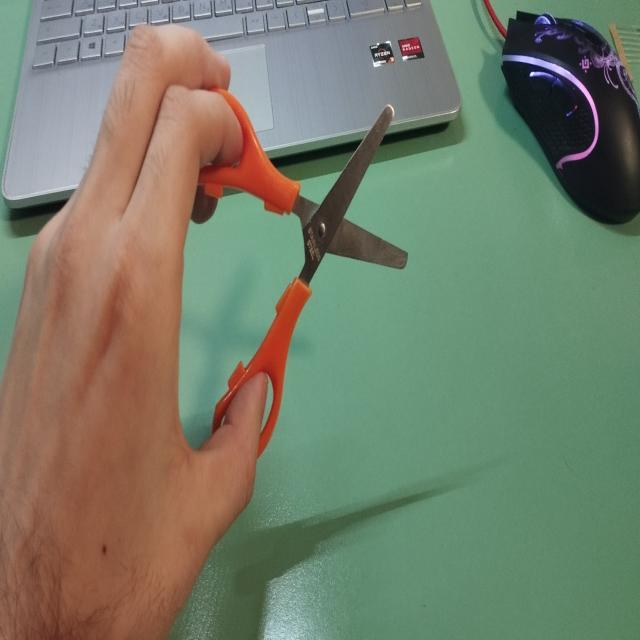tesoura: (188, 75, 414, 466)
